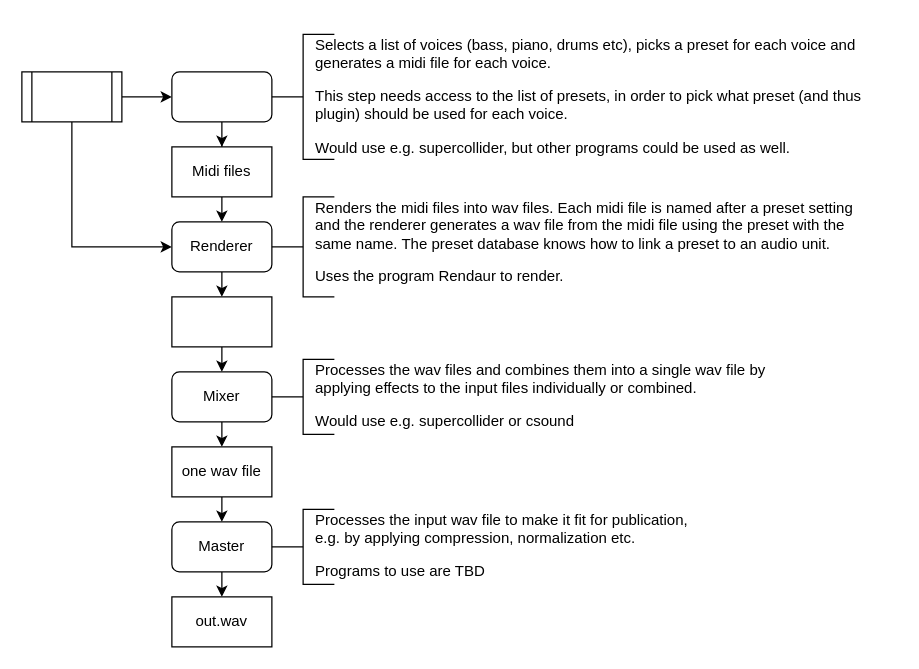
Some shapes in this 919 by 669 pixel diagram are drawn without their labels. The centre of each missing label's shape, as x and y in pixels:
"Composer" goes at point 221,96.
"preset database" goes at point 71,96.
"Wav files" goes at point 221,321.
